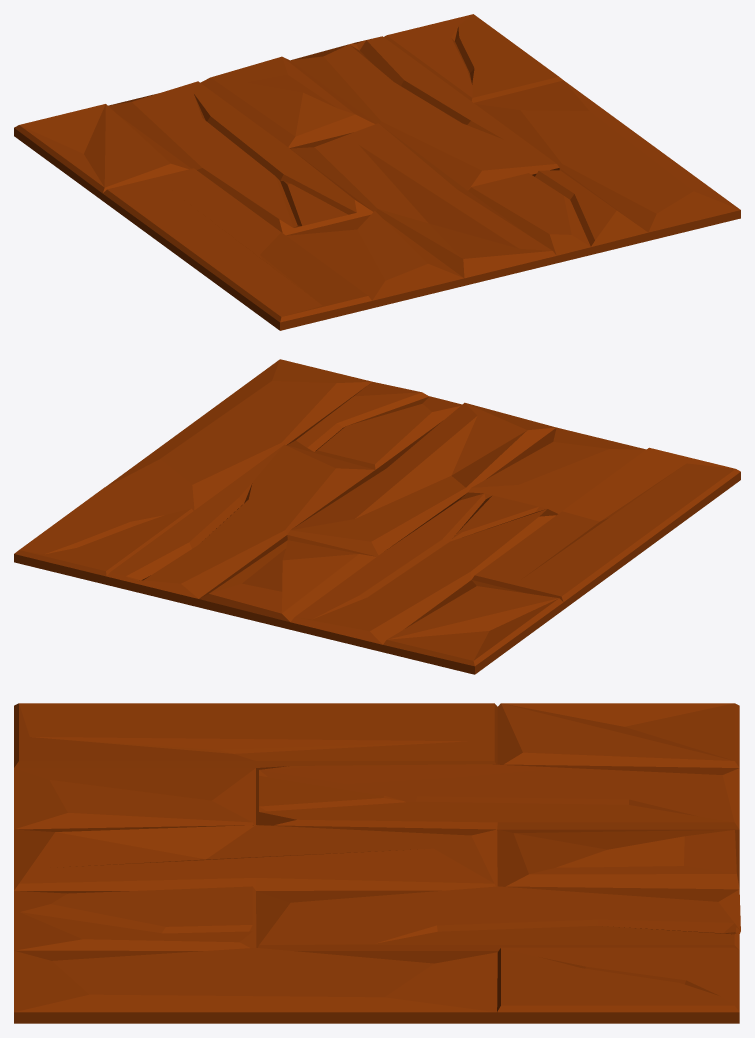
Rendered from n_woodenFloor.fbx.
The picture shows the model from 3 angles, top to bottom: view 1: azimuth 30°, elevation 25°; view 2: azimuth 150°, elevation 25°; view 3: azimuth 270°, elevation 25°; orthographic projection. The views are drawn at different scales.
Parts seen in each view (by area): view 1: Cube; view 2: Cube; view 3: Cube.
Boxes of the visible parts, x1,y1,x2,y2 form: Cube: (14, 14, 740, 330); Cube: (14, 359, 740, 674); Cube: (14, 703, 740, 1023).
Size of the model in its own units: 300 by 12.55 by 300.
